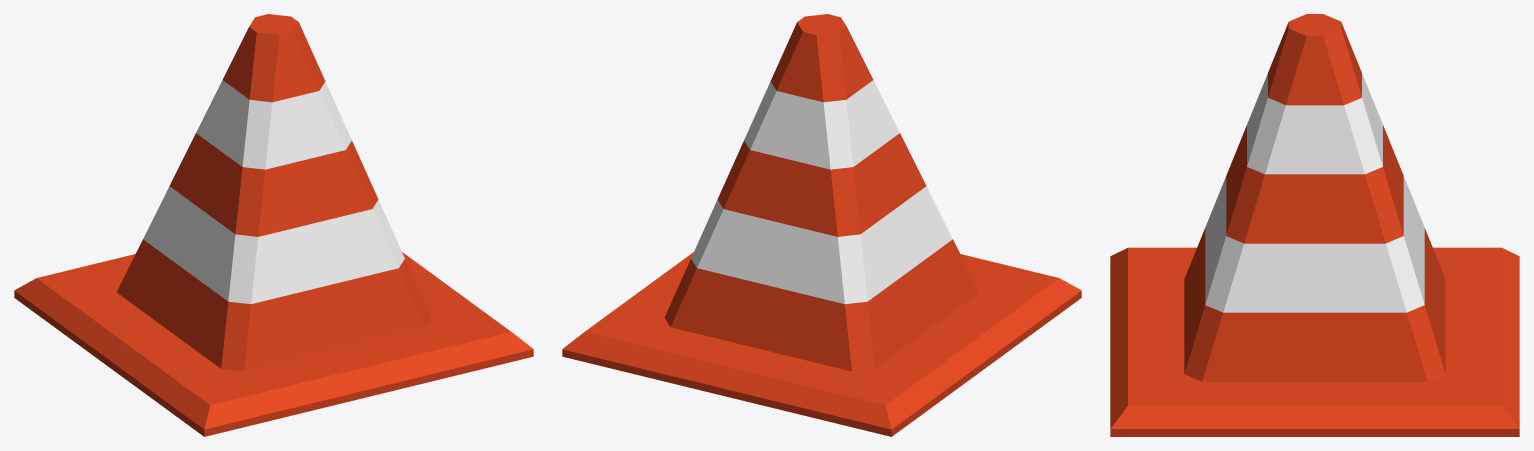
The picture shows the model from 3 angles, left to right: view 1: azimuth 30°, elevation 25°; view 2: azimuth 150°, elevation 25°; view 3: azimuth 270°, elevation 25°; orthographic projection. The views are drawn at different scales.
Parts seen in each view (by area): view 1: Cube; view 2: Cube; view 3: Cube.
Part boxes in pixels (left/top/right/bottom): Cube: left=14, top=14, right=533, bottom=436; Cube: left=562, top=14, right=1081, bottom=436; Cube: left=1110, top=14, right=1519, bottom=436.
Bounding box in the file's own units: 200 × 176 × 200.
